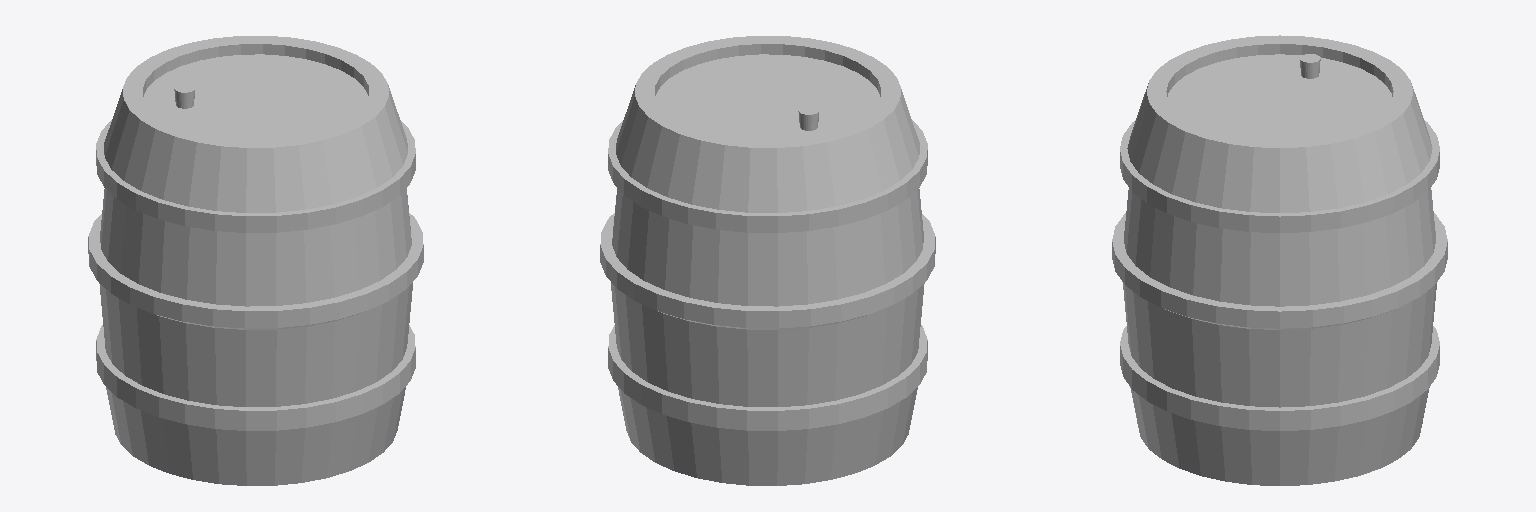
File: hordo.obj
The picture shows the model from 3 angles: view 1: azimuth 30°, elevation 25°; view 2: azimuth 150°, elevation 25°; view 3: azimuth 270°, elevation 25°; orthographic projection.
Parts seen in each view (by area): view 1: Cylinder; view 2: Cylinder; view 3: Cylinder.
Part boxes in pixels (bbox=[...]): Cylinder: bbox=[88, 36, 423, 485]; Cylinder: bbox=[600, 36, 935, 485]; Cylinder: bbox=[1112, 35, 1447, 485].
Size of the model in its own units: 1.18 by 1.32 by 1.18.